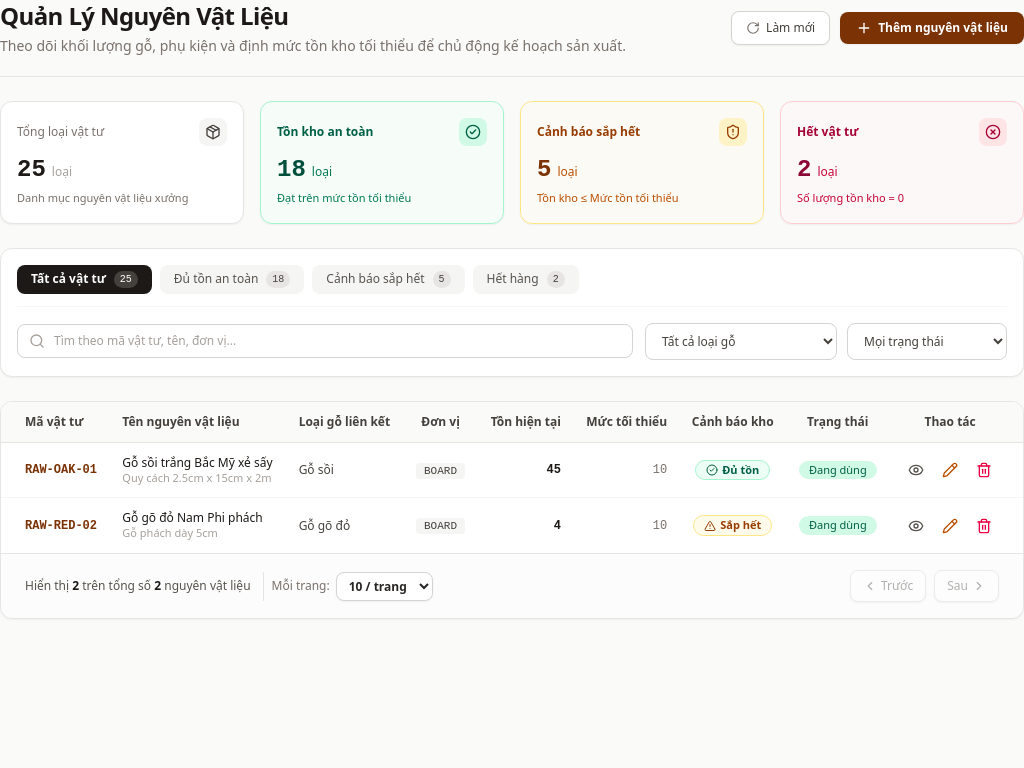
Test: ManageMaterialsPage Component › opens edit modal when clicking Pencil icon button
Expected: the text "RAW-OAK-01" is shown, [1, 442, 110, 498]
Click the button with test id "edit-material-1". click: (950, 470)
box: [936, 456, 964, 484]
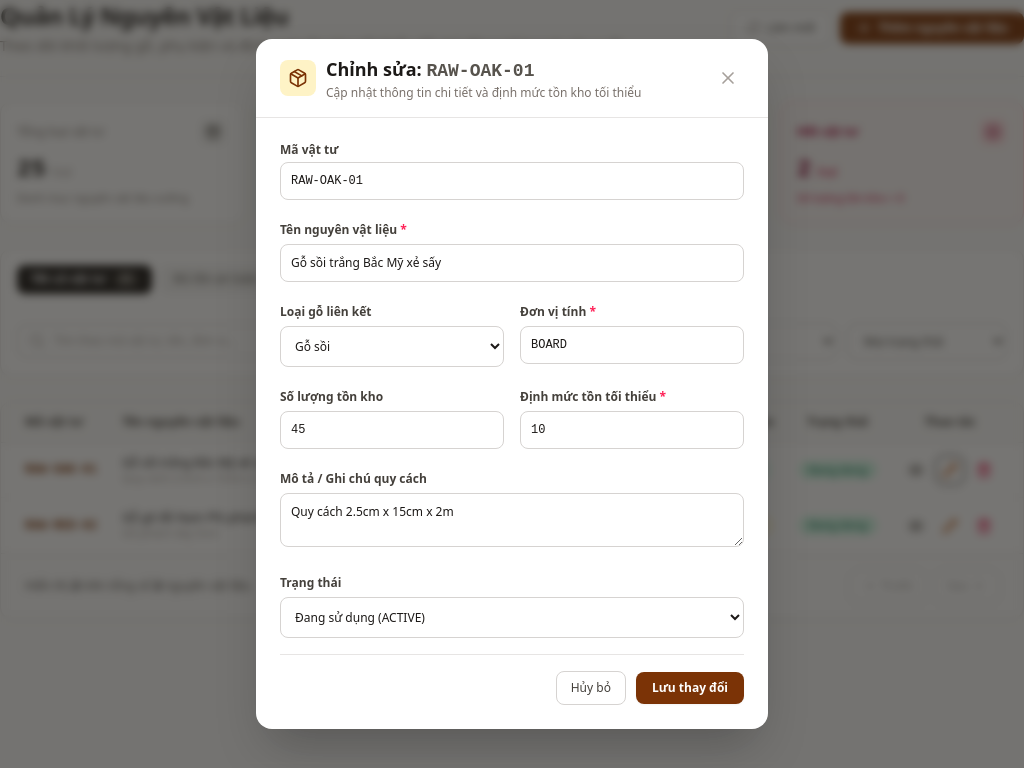
Expected: the heading "Chỉnh sửa: RAW-OAK-01" is shown, [326, 57, 534, 81]
Expected: the field showing "Gỗ sồi trắng Bắc Mỹ xẻ sấy" is shown, [280, 244, 744, 282]
